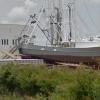Boat: (12, 28, 100, 69)
